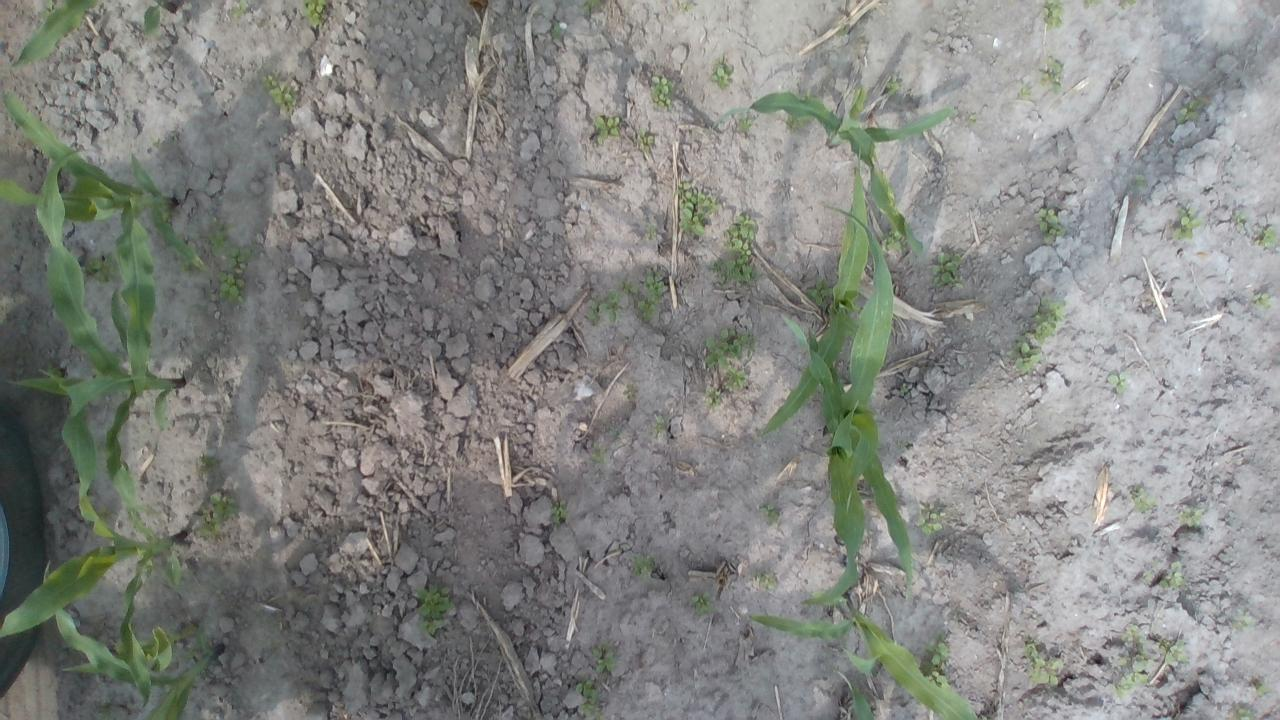Maize: (1, 148, 183, 540), (1, 86, 205, 398), (0, 368, 187, 708), (785, 203, 920, 585), (714, 84, 956, 256), (760, 152, 870, 434), (746, 595, 980, 720), (44, 561, 222, 720), (801, 328, 869, 610), (8, 0, 178, 70), (843, 683, 876, 720)
Weeds: (677, 178, 718, 235), (415, 584, 455, 636), (702, 328, 754, 367), (200, 493, 237, 540), (1024, 638, 1060, 686), (1030, 296, 1066, 343), (721, 214, 757, 256), (710, 255, 761, 284), (925, 633, 949, 687), (1122, 624, 1150, 670), (932, 250, 964, 289), (1146, 560, 1186, 590), (86, 253, 122, 286), (636, 272, 664, 314), (262, 72, 296, 106), (1011, 335, 1042, 372), (216, 269, 244, 305), (1036, 206, 1064, 242), (1037, 58, 1063, 96), (917, 505, 947, 537), (1174, 208, 1202, 240), (1114, 670, 1151, 694), (225, 246, 258, 272), (1160, 636, 1190, 664), (590, 640, 614, 673), (592, 114, 620, 142), (882, 222, 908, 252), (651, 74, 672, 110), (806, 277, 832, 306), (598, 288, 620, 322), (576, 680, 598, 714), (208, 223, 230, 256), (1133, 485, 1158, 512), (304, 0, 326, 28), (1178, 99, 1201, 124), (692, 590, 715, 615), (1044, 0, 1064, 28), (786, 113, 813, 133), (1256, 224, 1280, 246), (724, 368, 746, 390), (634, 555, 656, 577), (1180, 507, 1206, 524), (753, 570, 776, 588), (182, 642, 202, 662), (1252, 291, 1272, 311), (758, 503, 779, 522), (1106, 374, 1128, 392), (712, 64, 728, 88), (552, 500, 568, 523), (886, 76, 904, 96), (1231, 612, 1250, 629), (618, 282, 640, 296), (706, 390, 723, 408), (96, 703, 112, 720), (591, 448, 608, 464), (1237, 705, 1255, 720), (232, 0, 248, 16), (550, 22, 564, 40), (586, 303, 600, 321), (654, 415, 666, 435), (582, 0, 600, 12), (636, 128, 648, 146), (42, 0, 55, 16), (622, 384, 634, 401), (47, 364, 62, 377), (179, 258, 191, 274), (966, 112, 978, 127), (1017, 85, 1030, 98), (148, 134, 162, 146), (160, 208, 170, 224), (1120, 0, 1136, 10), (1256, 681, 1268, 694), (199, 457, 216, 466), (1134, 174, 1146, 186), (1234, 211, 1246, 223), (837, 26, 849, 38), (1084, 0, 1102, 7), (802, 88, 814, 98), (740, 119, 751, 129), (900, 383, 908, 393)
